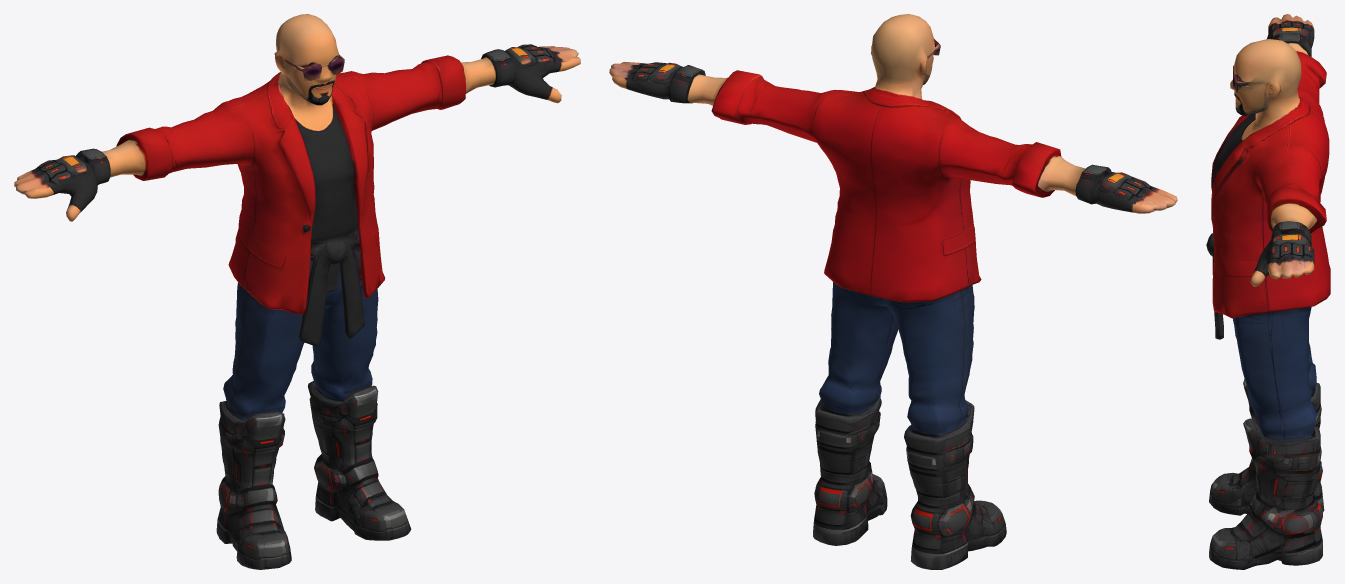
The model's file is rift-guardian.glb.
3 views of the same model, side by side, from view 1: azimuth 30°, elevation 25°; view 2: azimuth 150°, elevation 25°; view 3: azimuth 270°, elevation 25° (orthographic). The views are drawn at different scales.
Bounding box in the file's own units: 1.91 × 1.67 × 0.3836.
Materials: 1 (1 with a texture image).
